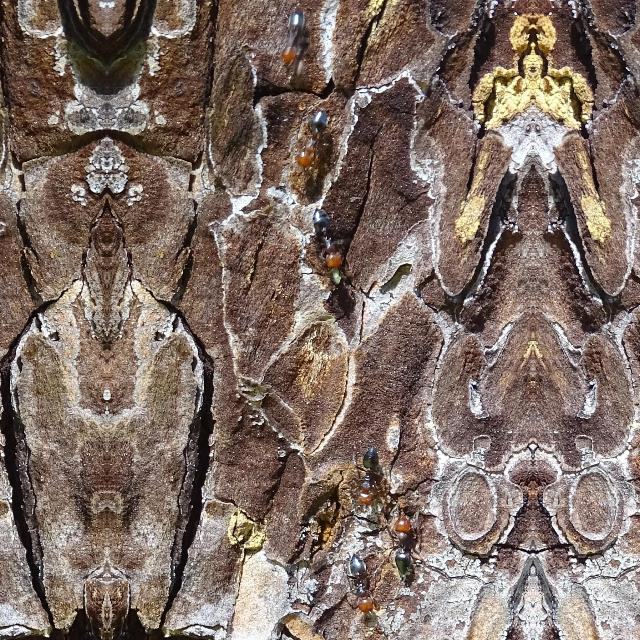Crematogaster: (302, 203, 353, 277), (281, 100, 333, 172), (341, 550, 379, 626), (350, 434, 382, 506), (389, 510, 421, 582), (272, 4, 306, 64)
